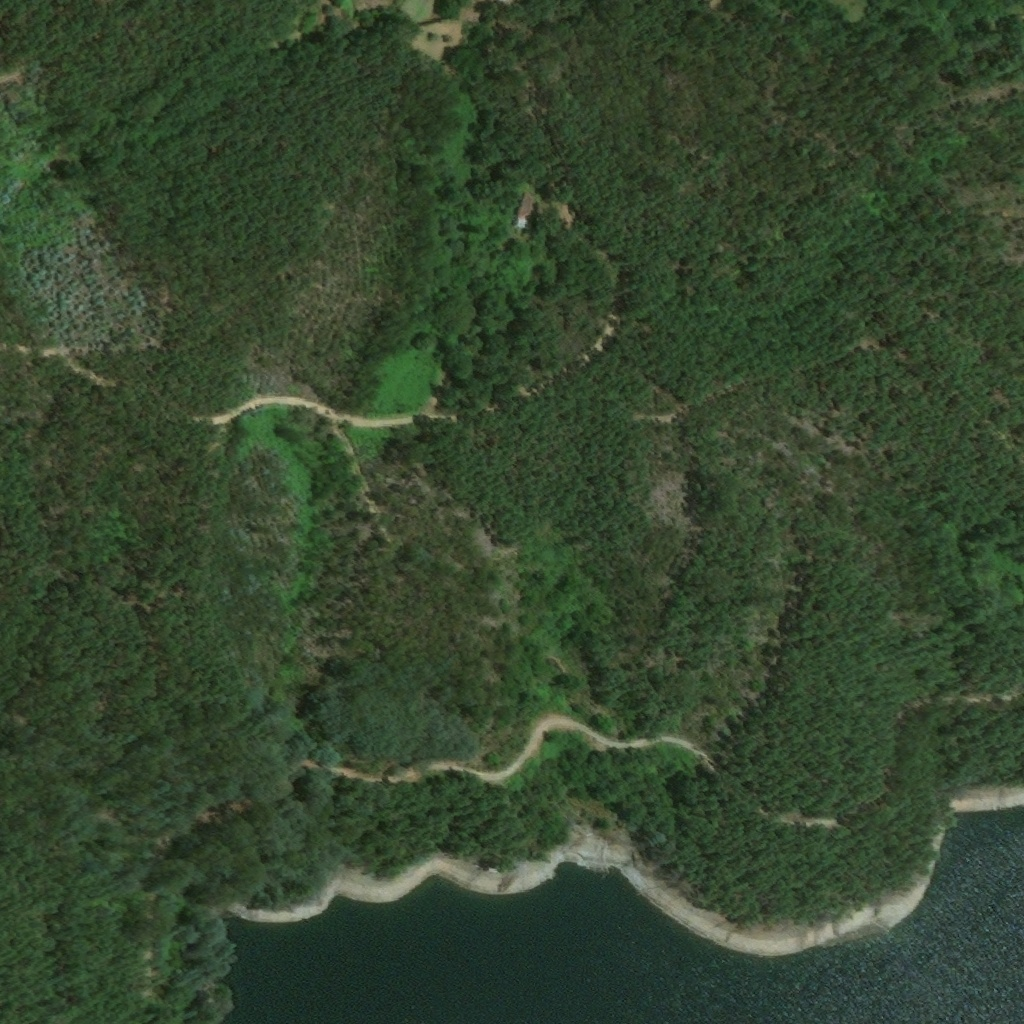0 no-damage: (512, 192, 569, 231)
4 un-classified: (698, 0, 712, 11), (497, 0, 509, 5)
